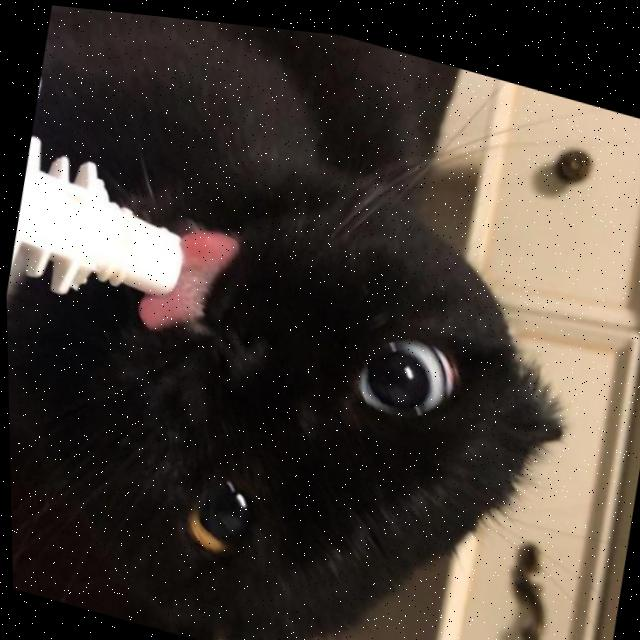Cats: (0, 0, 631, 640)
